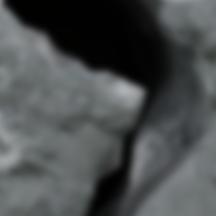broken_brick: (0, 7, 143, 215), (139, 125, 215, 215), (159, 0, 215, 115)
crack: (1, 0, 215, 215)
